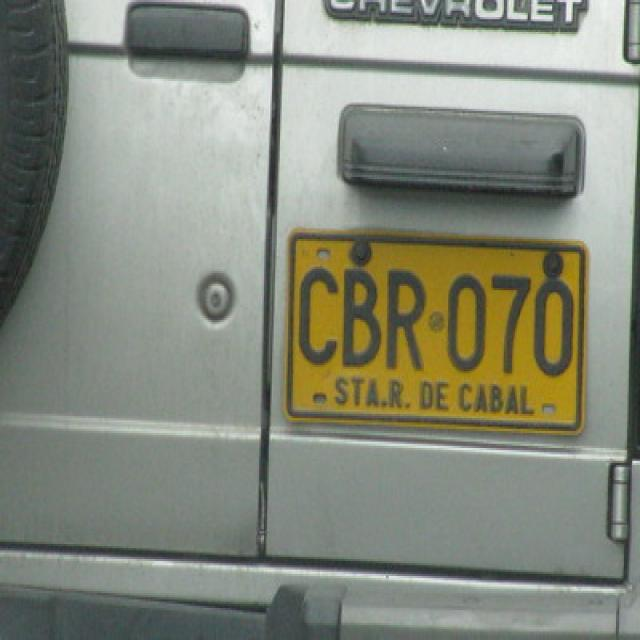placa_carro: (289, 237, 593, 430)
